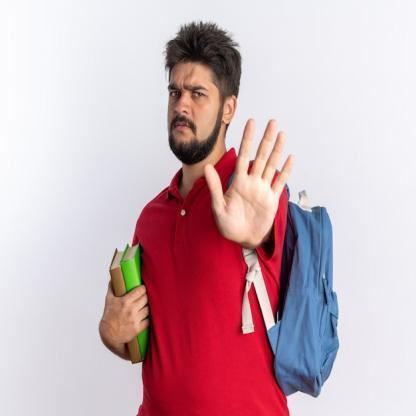stop: (202, 112, 296, 250)
